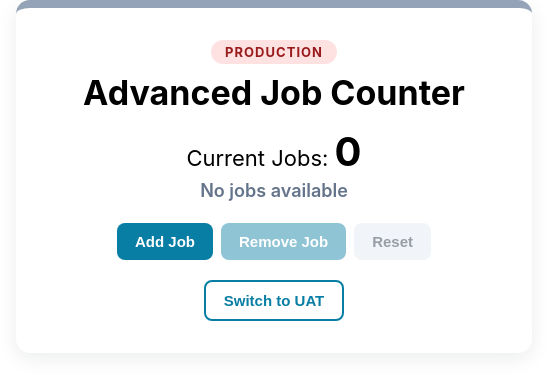
Test case: toggles the environment
Expected: the text "Production" is shown, left=211, top=40, right=337, bottom=64
Click the button "Switch to UAT".
click(274, 300)  # box left=204, top=280, right=344, bottom=321
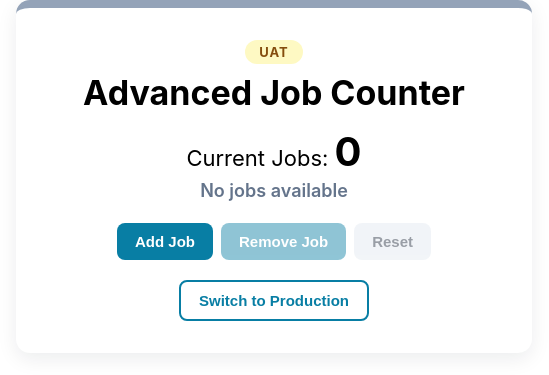
Result: the text "UAT" is shown at left=245, top=40, right=303, bottom=64
Click the button "Switch to Production".
click(274, 300)  # box left=179, top=280, right=369, bottom=321
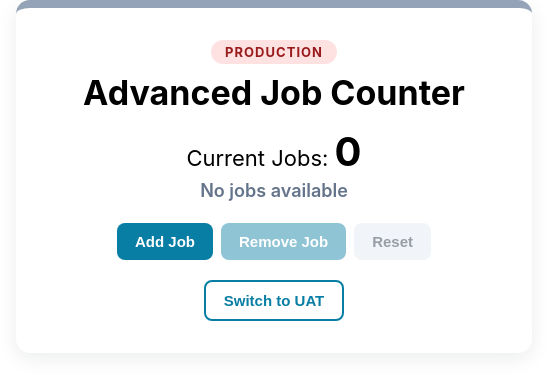
Result: the text "Production" is shown at left=211, top=40, right=337, bottom=64
